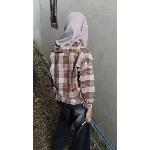Pisau: (74, 116, 90, 138)
